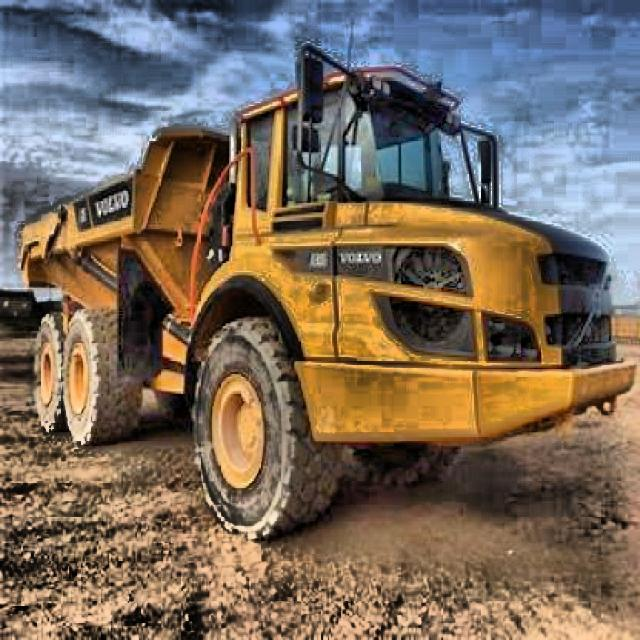dump_truck: (14, 58, 638, 551)
